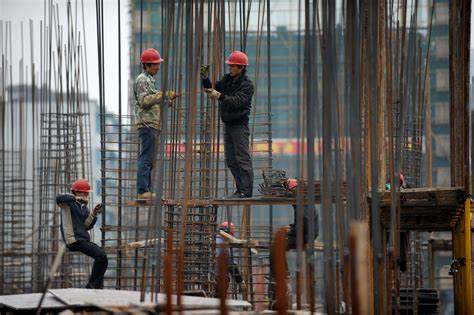safetyhat: (116, 38, 175, 197), (206, 47, 264, 198), (47, 175, 115, 292)
